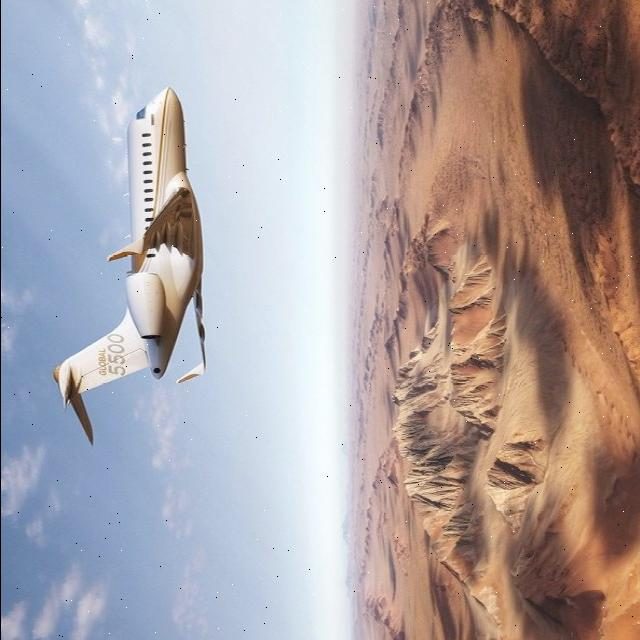jet: (2, 50, 284, 459)
